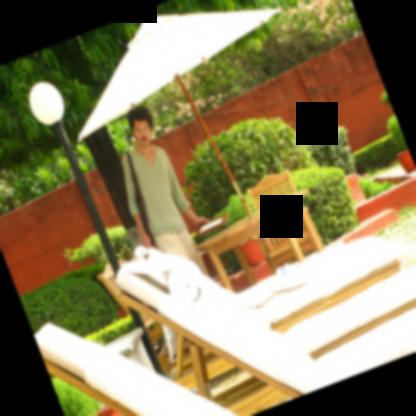handbag: (125, 150, 154, 246)
